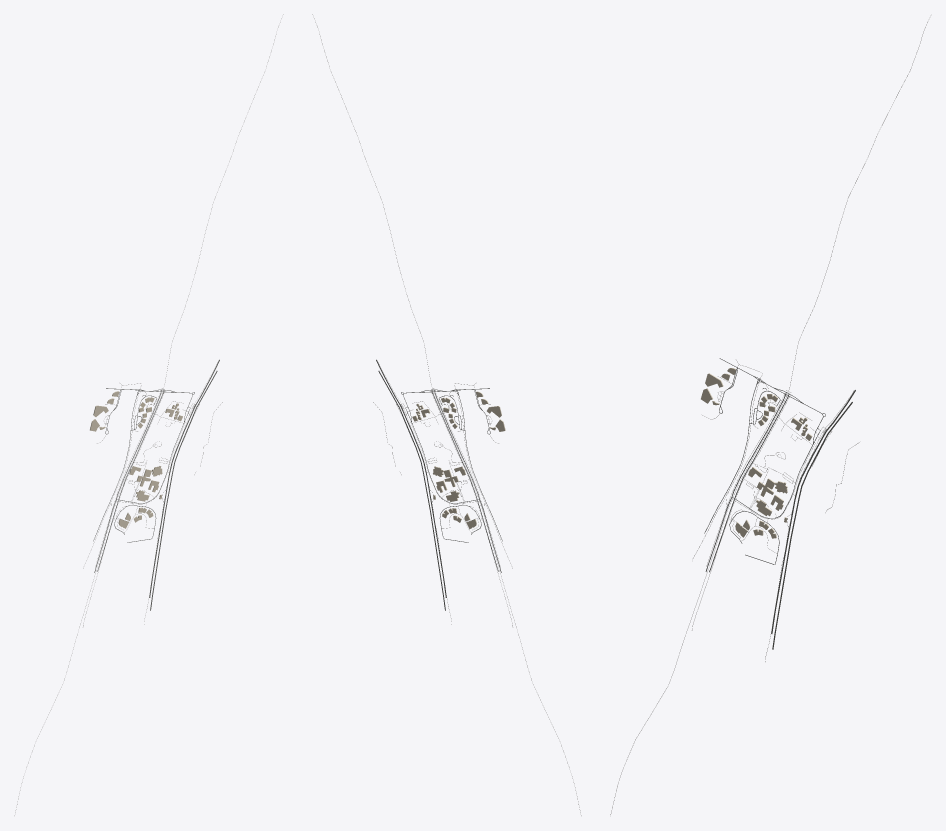
The model's file is historic-palestine-06_27_3479_3213.glb.
The picture shows the model from 3 angles, left to right: view 1: azimuth 30°, elevation 25°; view 2: azimuth 150°, elevation 25°; view 3: azimuth 330°, elevation 25°; orthographic projection. The views are drawn at different scales.
Parts seen in each view (by area): view 1: no part large enough to name; view 2: no part large enough to name; view 3: Road הקו הירוק.
Part boxes in pixels (left/top/right/bottom): Road הקו הירוק: left=610, top=22, right=927, bottom=814.
Bounding box in the file's own units: 2172 × 5687 × 8.7.
